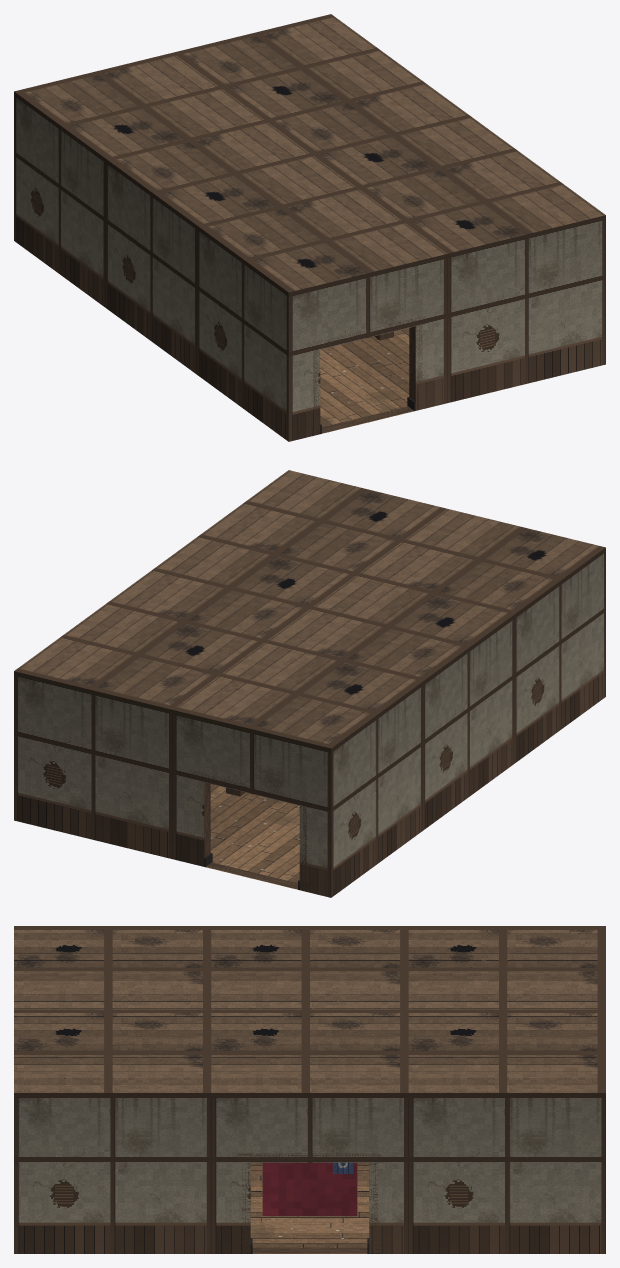
The picture shows the model from 3 angles, top to bottom: view 1: azimuth 30°, elevation 25°; view 2: azimuth 150°, elevation 25°; view 3: azimuth 270°, elevation 25°; orthographic projection. The views are drawn at different scales.
Visible parts, largest first — view 1: =_A, =_A_Deco; view 2: =_A, =_A_Deco; view 3: =_A, =_A_Deco.
Boxes of the visible parts, left/top/right/bottom form: =_A: left=14, top=14, right=605, bottom=441; =_A_Deco: left=312, top=397, right=415, bottom=435; =_A: left=14, top=470, right=605, bottom=897; =_A_Deco: left=200, top=853, right=307, bottom=890; =_A: left=14, top=926, right=605, bottom=1253; =_A_Deco: left=240, top=1162, right=379, bottom=1253.
Size of the model in its own units: 2 by 1.33 by 0.6.
Materials: 4 (4 with a texture image).
